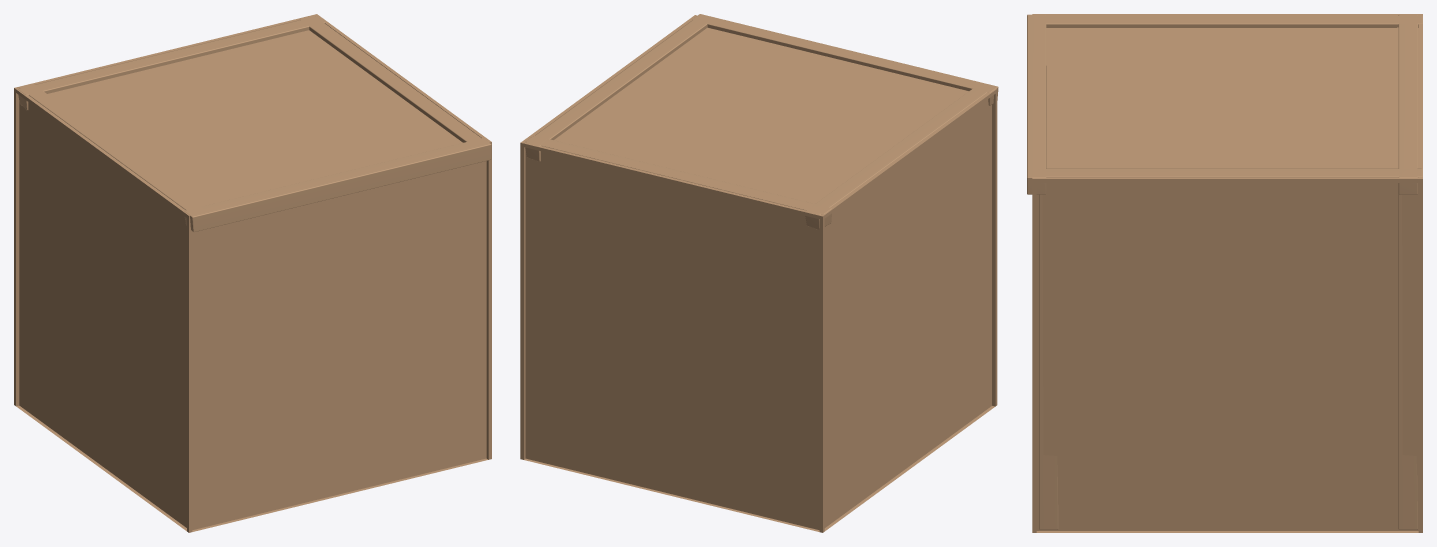
Rendered from Room.fbx.
3 renders of one model, left to right at view 1: azimuth 30°, elevation 25°; view 2: azimuth 150°, elevation 25°; view 3: azimuth 270°, elevation 25°, orthographic. The views are drawn at different scales.
Visible parts, largest first — view 1: FrontWallGeo, BackWallGeo, RoofGeo, TimberHGeo, TimberIGeo, TimberFGeo, TimberEGeo, SideWallBGeo, SideWallAGeo; view 2: SideWallBGeo, BackWallGeo, RoofGeo, TimberHGeo, TimberFGeo, TimberIGeo, TimberEGeo, SideWallAGeo, FrontWallGeo; view 3: SideWallAGeo, RoofGeo, TimberEGeo, TimberFGeo, TimberHGeo, TimberIGeo, TimberDGeo, TimberCGeo, SideWallBGeo, FrontWallGeo, BackWallGeo.
Boxes of the visible parts, x1=… form: FrontWallGeo: x1=187, y1=141, x2=489, y2=532; BackWallGeo: x1=14, y1=87, x2=192, y2=532; RoofGeo: x1=14, y1=30, x2=491, y2=219; TimberHGeo: x1=184, y1=138, x2=491, y2=231; TimberIGeo: x1=18, y1=16, x2=324, y2=110; TimberFGeo: x1=299, y1=15, x2=484, y2=144; TimberEGeo: x1=18, y1=83, x2=203, y2=212; SideWallBGeo: x1=14, y1=14, x2=317, y2=406; SideWallAGeo: x1=314, y1=14, x2=491, y2=459; SideWallBGeo: x1=522, y1=141, x2=824, y2=532; BackWallGeo: x1=819, y1=88, x2=996, y2=532; RoofGeo: x1=520, y1=27, x2=995, y2=219; TimberHGeo: x1=692, y1=14, x2=998, y2=105; TimberFGeo: x1=525, y1=18, x2=709, y2=161; TimberIGeo: x1=526, y1=135, x2=831, y2=226; TimberEGeo: x1=805, y1=86, x2=989, y2=229; SideWallAGeo: x1=520, y1=15, x2=697, y2=459; FrontWallGeo: x1=694, y1=16, x2=997, y2=406; SideWallAGeo: x1=1032, y1=177, x2=1422, y2=532; RoofGeo: x1=1032, y1=28, x2=1422, y2=182; TimberEGeo: x1=1038, y1=16, x2=1422, y2=27; TimberFGeo: x1=1038, y1=168, x2=1422, y2=177; TimberHGeo: x1=1027, y1=14, x2=1046, y2=194; TimberIGeo: x1=1398, y1=14, x2=1417, y2=194; TimberDGeo: x1=1398, y1=194, x2=1417, y2=529; TimberCGeo: x1=1039, y1=194, x2=1058, y2=529; SideWallBGeo: x1=1418, y1=14, x2=1422, y2=532; FrontWallGeo: x1=1032, y1=14, x2=1036, y2=532; BackWallGeo: x1=1032, y1=14, x2=1422, y2=15.
Size of the model in its own units: 9 by 9.11 by 9.12.
